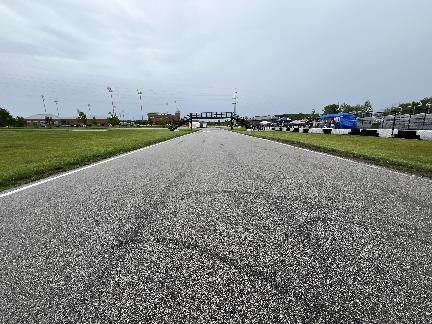Grass: (0, 129, 195, 190), (234, 129, 431, 176)
Lane: (0, 129, 431, 323)
